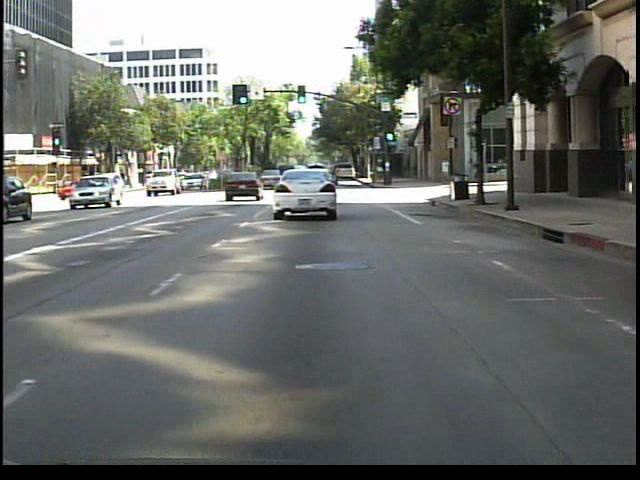person: (438, 149, 454, 188)
